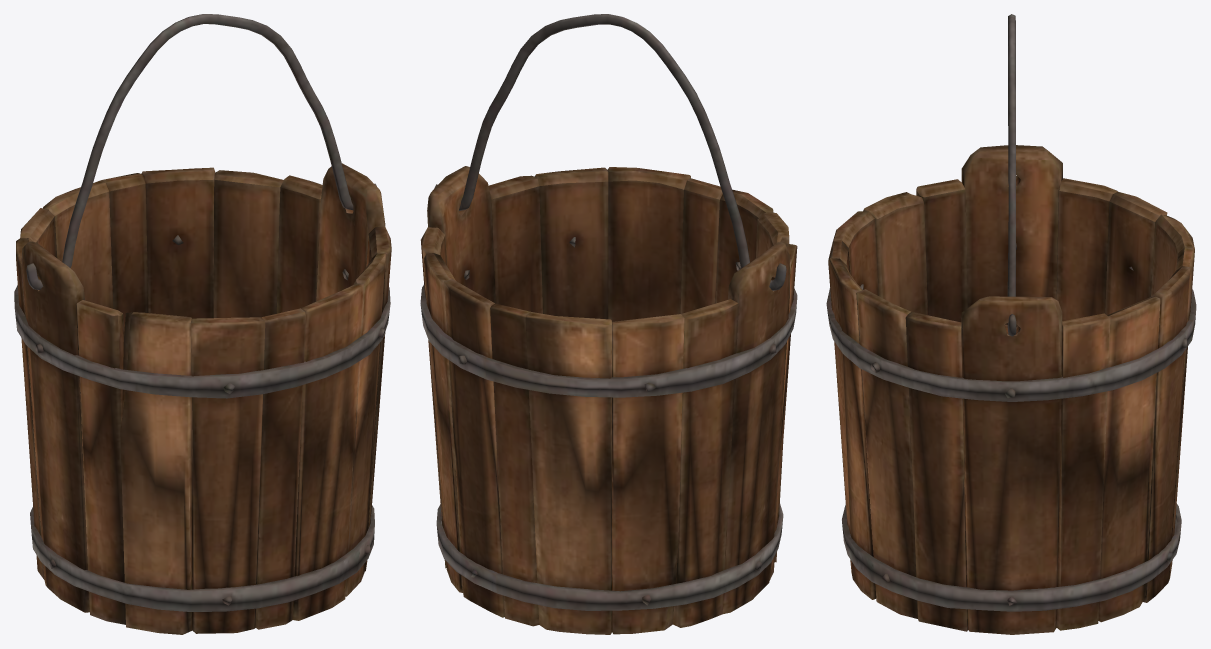
Rendered from wooden_bucket_01.glb.
The picture shows the model from 3 angles, left to right: view 1: azimuth 30°, elevation 25°; view 2: azimuth 150°, elevation 25°; view 3: azimuth 270°, elevation 25°; orthographic projection.
Visible parts, largest first — view 1: wooden_bucket_01, wooden_bucket_01_handle; view 2: wooden_bucket_01, wooden_bucket_01_handle; view 3: wooden_bucket_01, wooden_bucket_01_handle.
Boxes of the visible parts, left/top/right/bottom form: wooden_bucket_01: left=14, top=163, right=391, bottom=634; wooden_bucket_01_handle: left=26, top=14, right=376, bottom=289; wooden_bucket_01: left=420, top=166, right=797, bottom=634; wooden_bucket_01_handle: left=434, top=14, right=786, bottom=290; wooden_bucket_01: left=826, top=145, right=1196, bottom=634; wooden_bucket_01_handle: left=1007, top=14, right=1016, bottom=336.
Bounding box in the file's own units: 0.367 × 0.5499 × 0.3406.
1 material, 1 textured.
